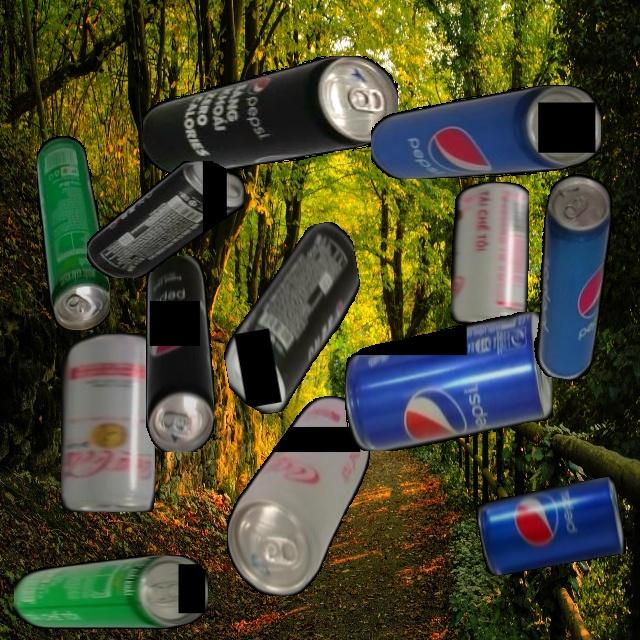debris: (205, 219, 379, 419), (142, 56, 398, 175), (344, 311, 553, 451), (226, 395, 370, 596), (518, 169, 623, 383), (370, 85, 601, 179), (87, 160, 244, 278), (60, 333, 155, 512), (474, 476, 627, 577), (13, 555, 208, 629), (36, 135, 110, 330), (145, 255, 214, 452), (450, 182, 529, 325)
